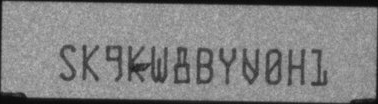0: (265, 48, 283, 86)
1: (310, 46, 329, 86)
8: (173, 44, 191, 83)
9: (105, 44, 123, 83)
B: (196, 46, 213, 85)
H: (287, 48, 305, 85)
K: (126, 44, 146, 83), (81, 43, 99, 81)
S: (59, 43, 78, 81)
V: (242, 46, 260, 85)
W: (151, 43, 169, 83)
Y: (218, 46, 237, 84)
